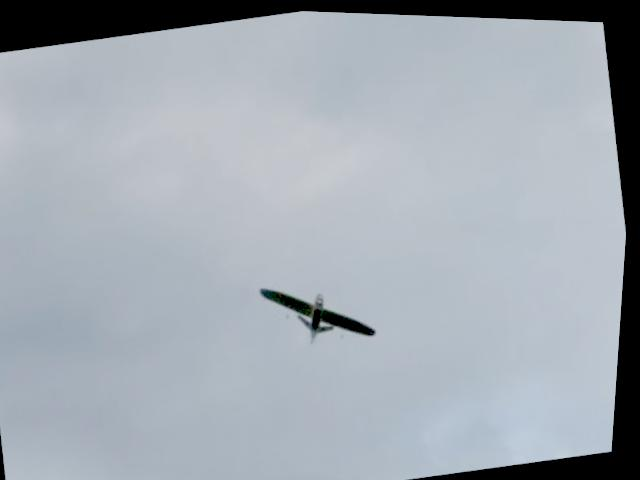uav: (250, 253, 391, 365)
